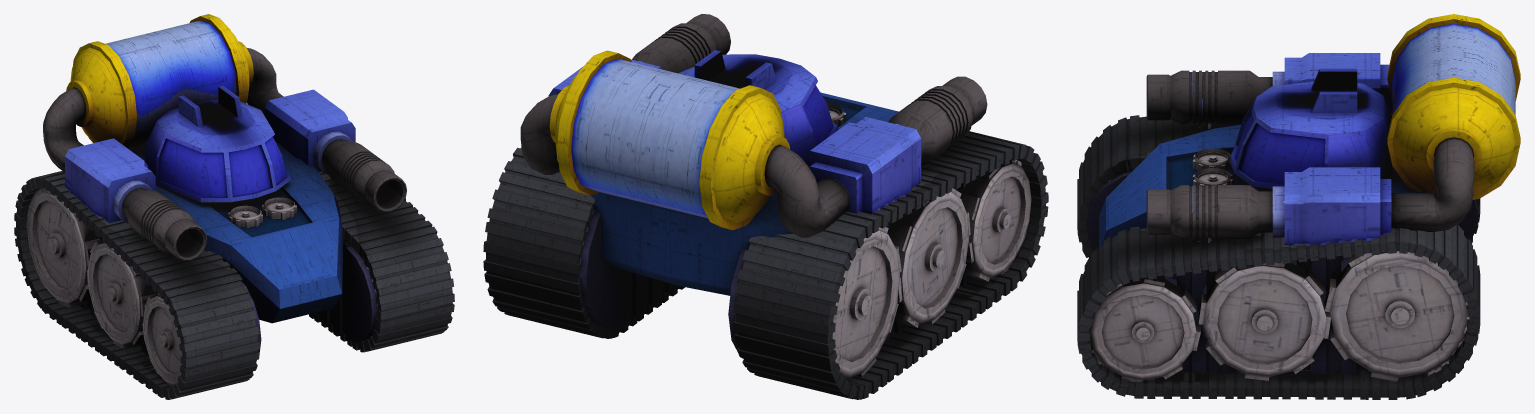
The model's file is PlayerB18.obj.
3 renders of one model, left to right at view 1: azimuth 30°, elevation 25°; view 2: azimuth 150°, elevation 25°; view 3: azimuth 270°, elevation 25°, orthographic. The views are drawn at different scales.
Visible parts, largest first — view 1: Object001, Box042, Object004, Object003, Object002; view 2: Object001, Box042, Object003, Object004, Object002; view 3: Object001, Box042, Object004, Object003, Object002.
Part boxes in pixels (x1,y1,x2,y2): Object001: (43,14,406,360); Box042: (14,171,454,399); Object004: (26,188,100,307); Object003: (86,240,156,348); Object002: (142,292,182,386); Object001: (520,14,987,358); Box042: (483,131,1048,399); Object003: (887,188,970,327); Object004: (832,227,901,378); Object002: (959,160,1031,281); Object001: (1085,14,1520,374); Box042: (1077,115,1480,399); Object004: (1324,250,1469,381); Object003: (1198,261,1330,380); Object002: (1089,275,1200,382).
Bounding box in the file's own units: 121 × 100 × 147.
Materials: 2 (2 with a texture image).
